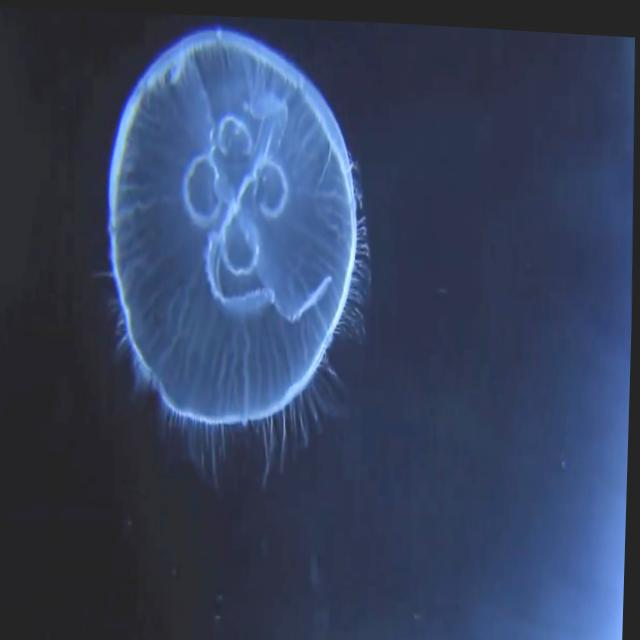Moon-jellyfish: (104, 18, 363, 420)
